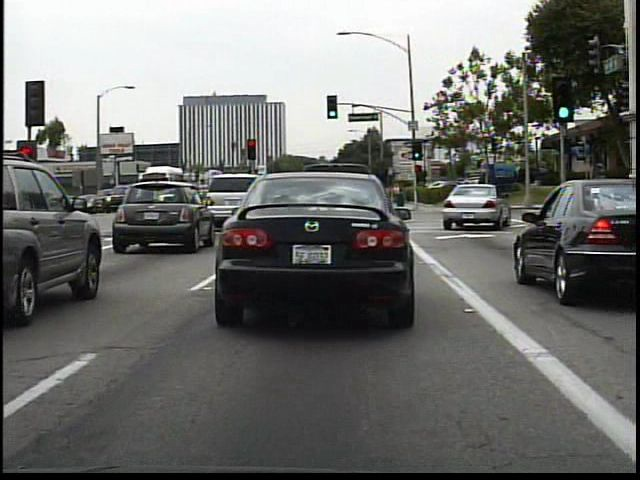person: (387, 177, 408, 212)
